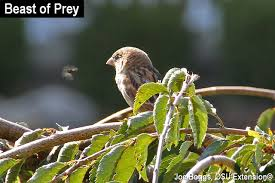hsparrow: (102, 40, 167, 118)
